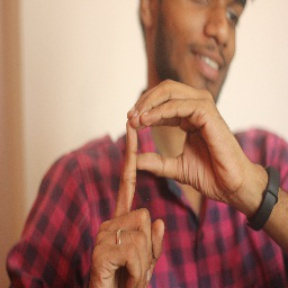P: (96, 77, 242, 264)
